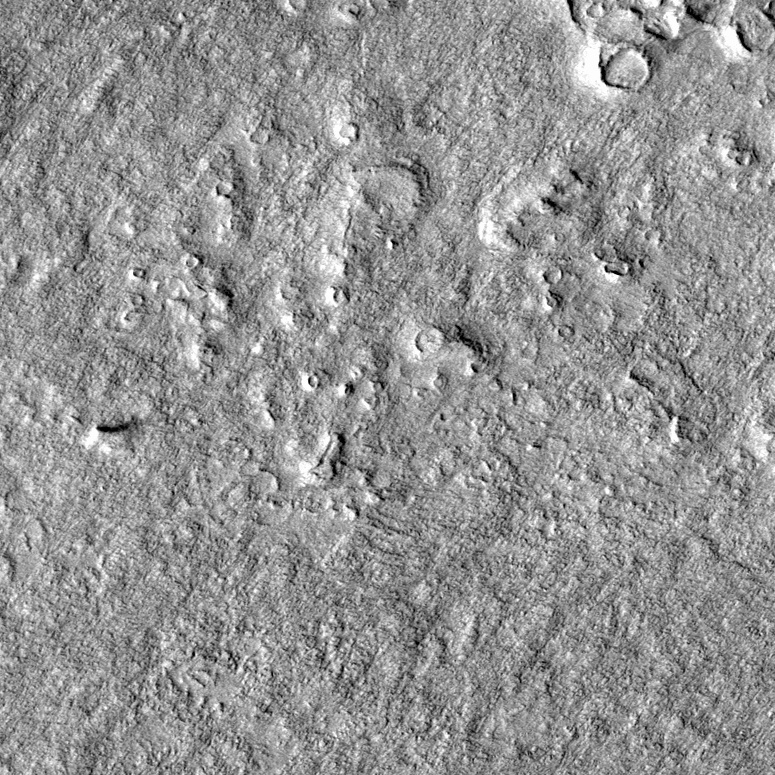dust_devil: (81, 419, 134, 451)
